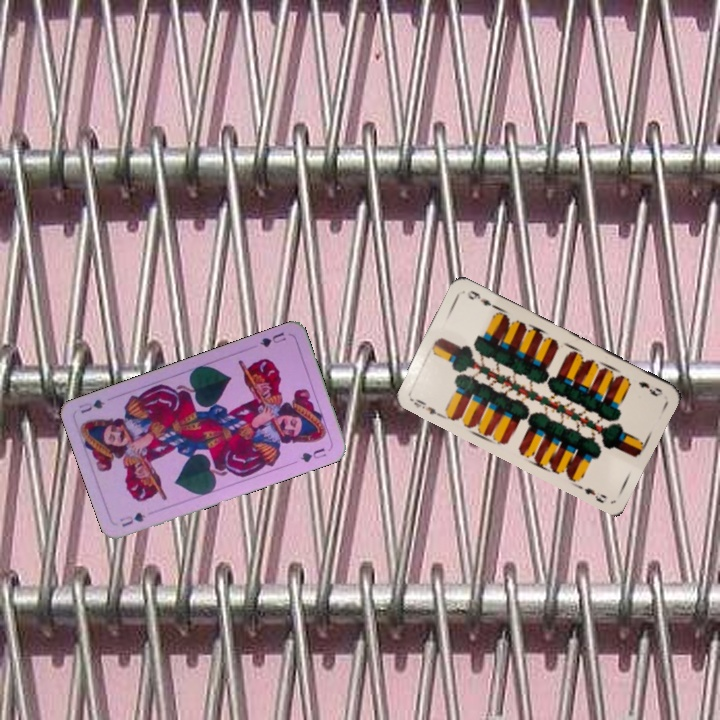E9: (406, 394, 444, 419), (634, 377, 665, 399)
GU: (256, 328, 289, 350), (116, 508, 148, 529)
